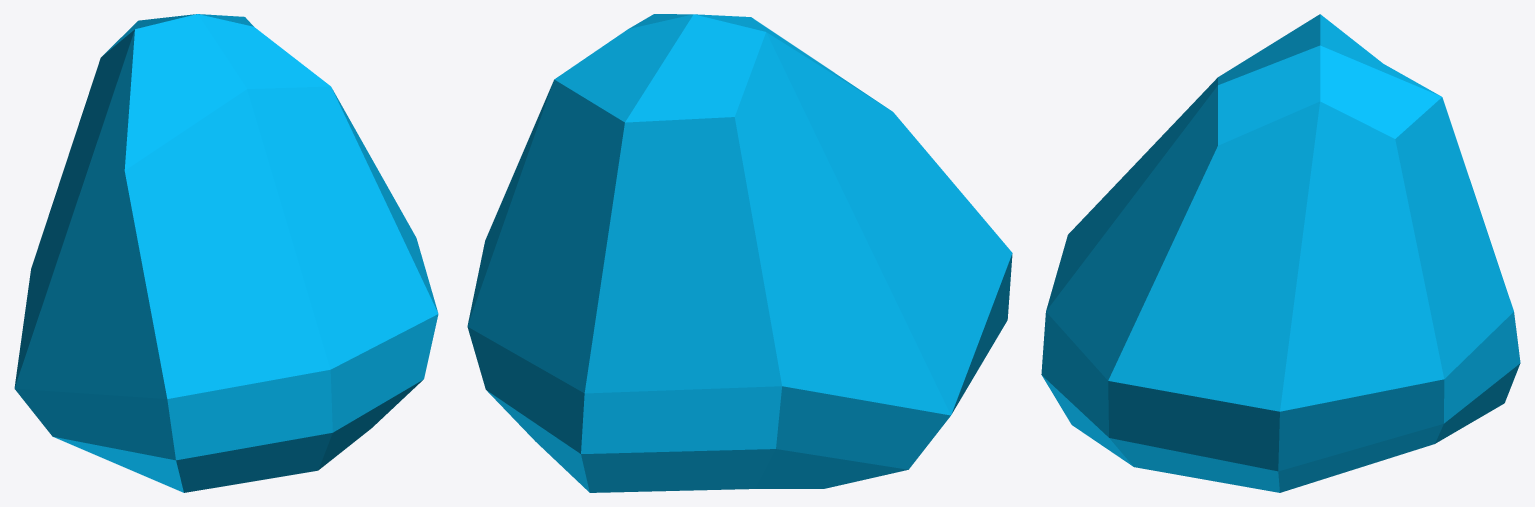
The model's file is forestpack_stone_medium_1_meshCollider.FBX.
3 renders of one model, left to right at view 1: azimuth 30°, elevation 25°; view 2: azimuth 150°, elevation 25°; view 3: azimuth 270°, elevation 25°, orthographic. The views are drawn at different scales.
Parts seen in each view (by area): view 1: forestpack_stone_medium_1_meshCollider; view 2: forestpack_stone_medium_1_meshCollider; view 3: forestpack_stone_medium_1_meshCollider.
Part boxes in pixels (x1,y1,x2,y2): forestpack_stone_medium_1_meshCollider: (14,14,438,492); forestpack_stone_medium_1_meshCollider: (467,14,1012,492); forestpack_stone_medium_1_meshCollider: (1041,14,1520,492).
Bounding box in the file's own units: 47.22 × 45.01 × 47.31.
